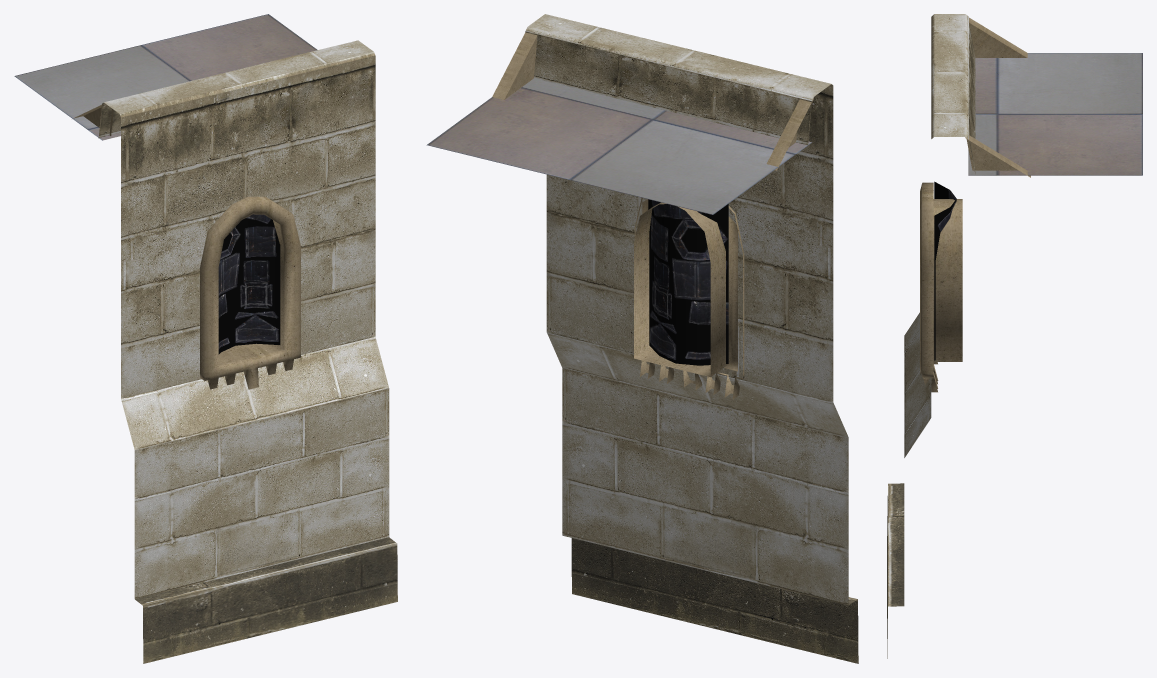
File: castle-wall-w-window-small.fbx
The picture shows the model from 3 angles, left to right: view 1: azimuth 30°, elevation 25°; view 2: azimuth 150°, elevation 25°; view 3: azimuth 270°, elevation 25°; orthographic projection. The views are drawn at different scales.
Visible parts, largest first — view 1: castle-wall-w-window-small; view 2: castle-wall-w-window-small; view 3: castle-wall-w-window-small.
Boxes of the visible parts, x1,y1,x2,y2 form: castle-wall-w-window-small: (14, 14, 397, 663); castle-wall-w-window-small: (426, 14, 858, 663); castle-wall-w-window-small: (887, 14, 1142, 658).
Bounding box in the file's own units: 200 × 400 × 176.
